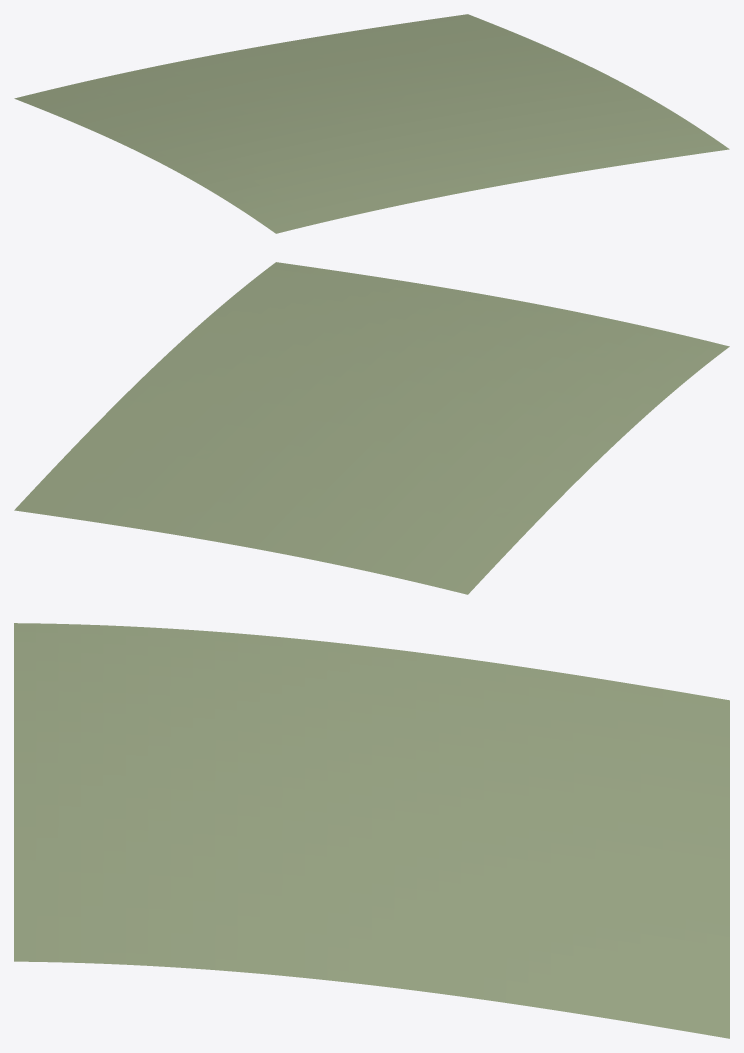
File: valley-11-14.glb
3 views of the same model, one above another, from view 1: azimuth 30°, elevation 25°; view 2: azimuth 150°, elevation 25°; view 3: azimuth 270°, elevation 25° (orthographic). The views are drawn at different scales.
Parts seen in each view (by area): view 1: valley-11-14; view 2: valley-11-14; view 3: valley-11-14.
Boxes of the visible parts, x1,y1,x2,y2 form: valley-11-14: (14, 14, 729, 233); valley-11-14: (14, 262, 729, 594); valley-11-14: (14, 623, 729, 1038).
Bounding box in the file's own units: 256 × 44.68 × 256.
